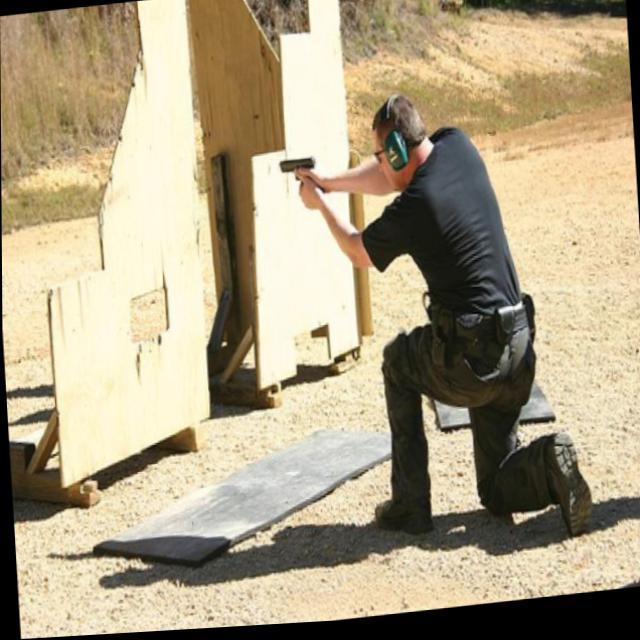weapon: (277, 157, 326, 202)
